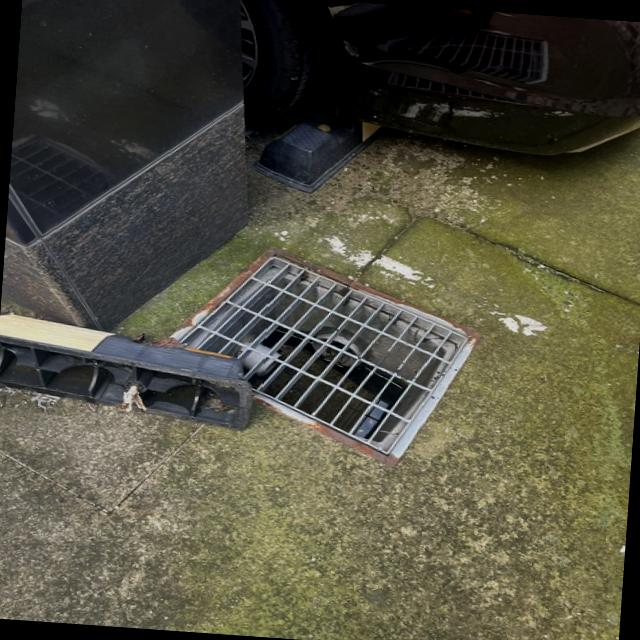drain_area: (181, 257, 469, 456)
drain_full: (169, 257, 470, 454)
